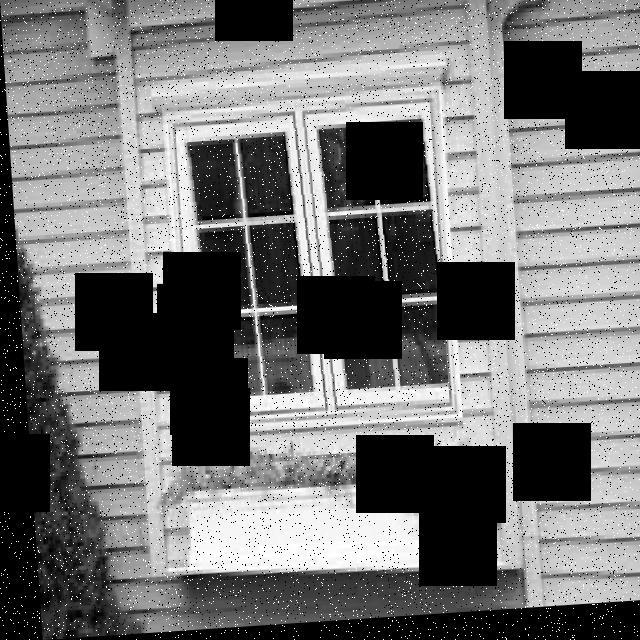Window: (173, 113, 444, 425)
